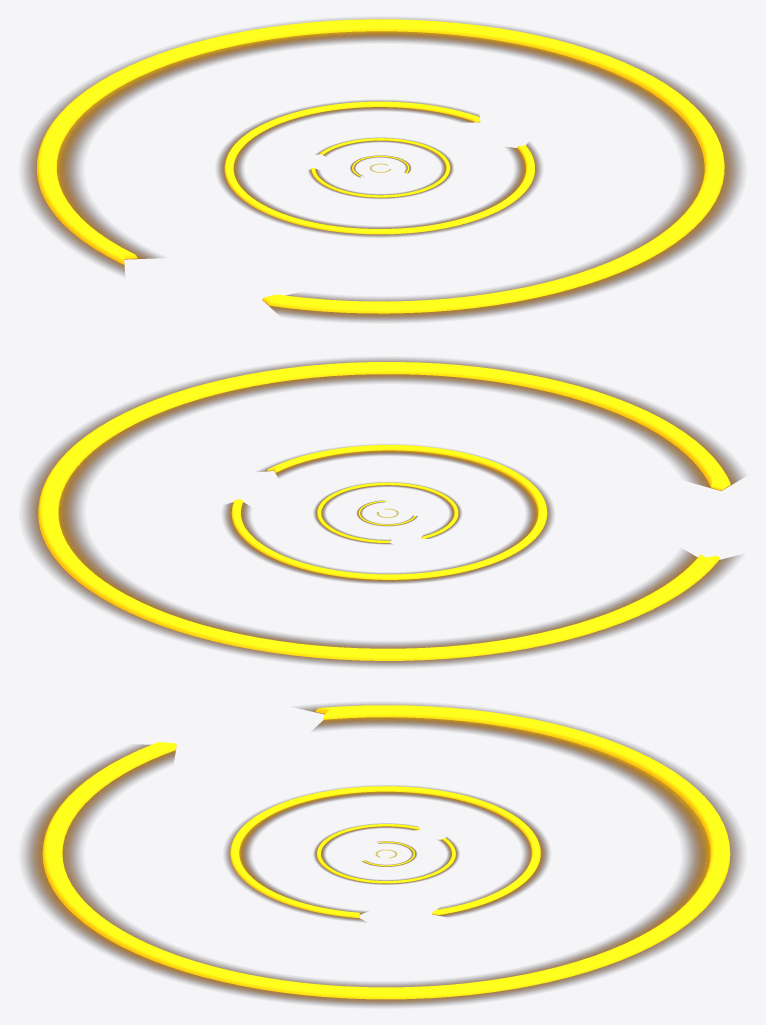
Rendered from hireco_3DScene_v28.glb.
3 views of the same model, one above another, from view 1: azimuth 30°, elevation 25°; view 2: azimuth 150°, elevation 25°; view 3: azimuth 270°, elevation 25° (orthographic).
Visible parts, largest first — view 1: ring_6, ring_6_tube, ring_5, ring_5_tube, ring_4, ring_4_tube; view 2: ring_6, ring_6_tube, ring_5, ring_5_tube, ring_4, ring_4_tube; view 3: ring_6, ring_6_tube, ring_5, ring_5_tube, ring_4, ring_4_tube.
Part boxes in pixels (x1,y1,x2,y2): ring_6: (24, 18, 741, 321); ring_6_tube: (37, 19, 724, 313); ring_5: (217, 100, 541, 236); ring_5_tube: (224, 101, 534, 234); ring_4: (308, 137, 452, 198); ring_4_tube: (311, 138, 450, 197); ring_6: (24, 358, 743, 666); ring_6_tube: (38, 362, 730, 660); ring_5: (224, 445, 552, 583); ring_5_tube: (231, 445, 547, 579); ring_4: (314, 482, 461, 544); ring_4_tube: (317, 482, 458, 542); ring_6: (24, 703, 741, 1006); ring_6_tube: (42, 705, 730, 999); ring_5: (225, 786, 548, 921); ring_5_tube: (230, 786, 540, 917); ring_4: (314, 823, 458, 884); ring_4_tube: (317, 824, 455, 883).
Bounding box in the file's own units: 382 × 3.46 × 382.
Materials: 5 (4 with a texture image).
